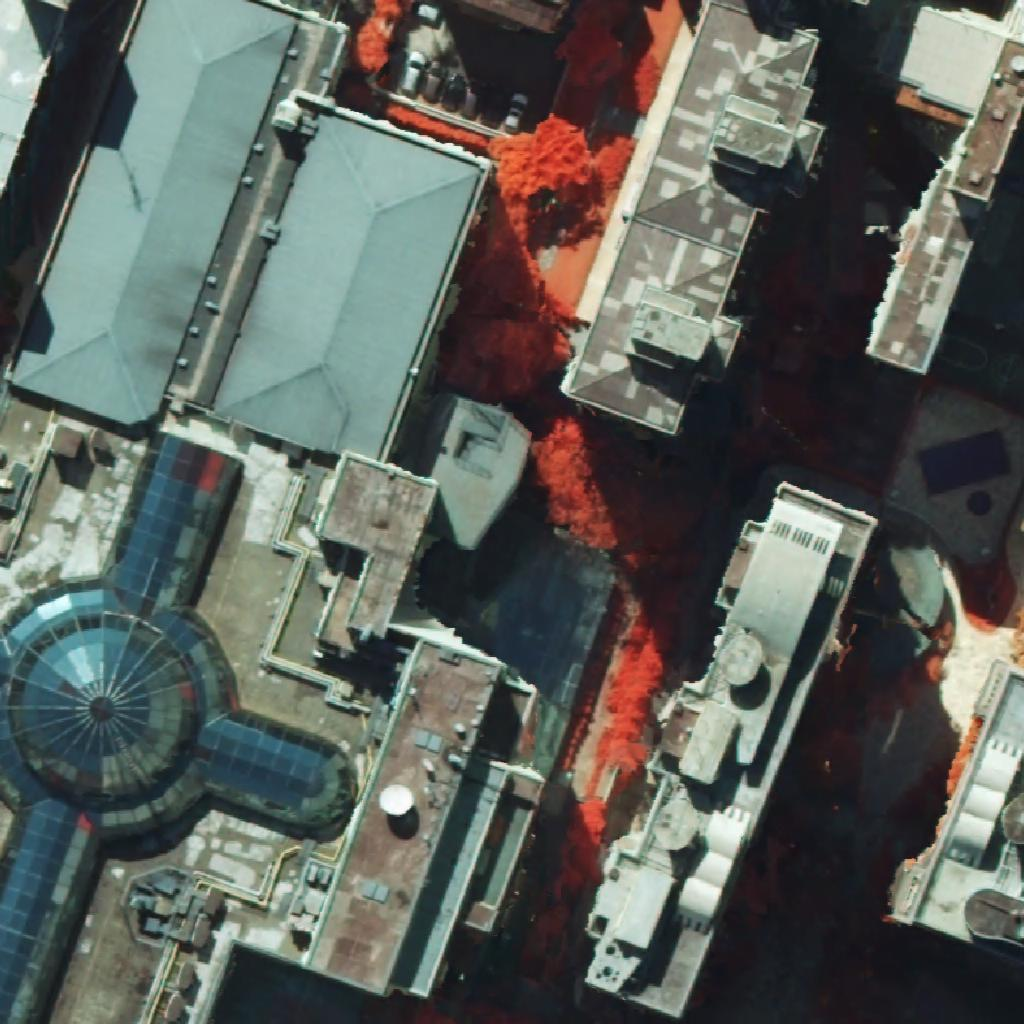pool: (918, 430, 1011, 496)
